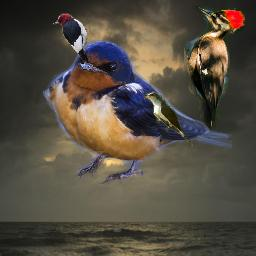Cuckoo: (144, 91, 193, 148)
Swallow: (43, 39, 232, 184)
Woodpecker: (182, 6, 245, 129), (50, 13, 92, 65)
